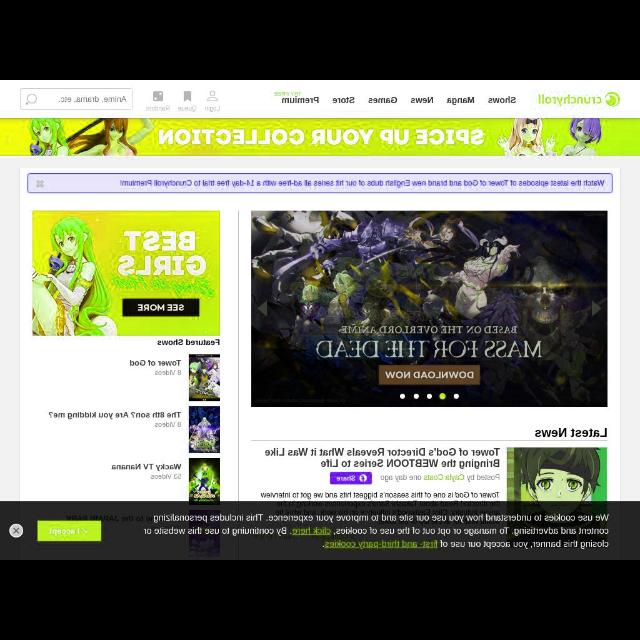button: (8, 524, 24, 538)
icon: (24, 94, 38, 106), (206, 90, 218, 102), (152, 90, 164, 102), (182, 91, 192, 103), (12, 527, 20, 535), (36, 180, 44, 188), (83, 527, 89, 535)
iframe: (1, 502, 639, 558), (28, 173, 612, 193)
image: (250, 210, 608, 408), (1, 118, 640, 156), (31, 212, 219, 336), (507, 448, 608, 500), (188, 406, 220, 454), (188, 354, 220, 402), (538, 92, 620, 108), (188, 459, 218, 501), (359, 475, 367, 483)
input: (20, 88, 132, 110)
pageindicator: (400, 392, 460, 400)
text: (143, 512, 609, 550), (265, 448, 499, 468), (119, 179, 605, 187), (259, 492, 499, 501), (380, 474, 500, 482), (48, 412, 182, 418), (534, 428, 608, 438), (112, 462, 182, 472), (57, 96, 126, 104), (156, 339, 220, 347), (128, 359, 182, 366), (281, 97, 319, 105), (48, 528, 80, 536), (367, 96, 397, 104), (488, 96, 516, 104), (446, 98, 474, 106), (154, 420, 182, 428), (150, 474, 182, 481), (154, 369, 182, 376), (410, 97, 434, 105), (331, 96, 355, 104), (146, 105, 170, 113), (272, 91, 302, 97), (177, 105, 197, 113), (203, 105, 220, 113), (337, 475, 355, 481)
textbutton: (37, 521, 101, 541), (330, 472, 372, 484)
toolbar: (1, 80, 640, 118)
